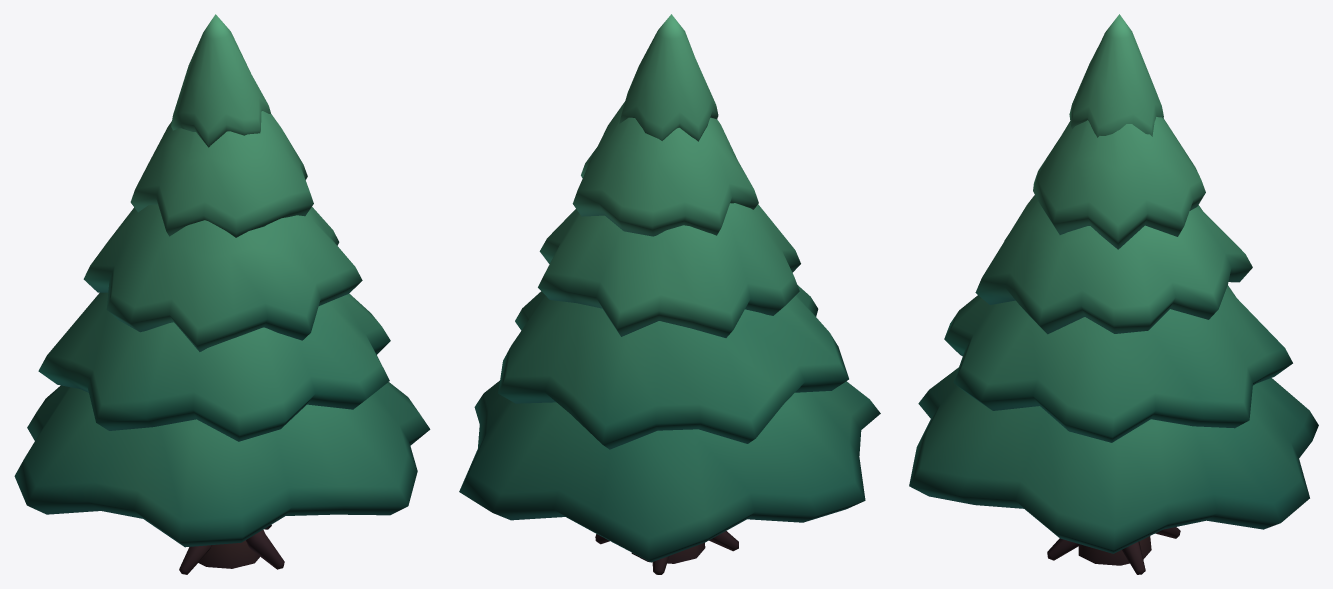
The model's file is pine.glb.
3 views of the same model, side by side, from view 1: azimuth 30°, elevation 25°; view 2: azimuth 150°, elevation 25°; view 3: azimuth 270°, elevation 25° (orthographic).
Parts seen in each view (by area): view 1: pine_body; view 2: pine_body; view 3: pine_body.
Boxes of the visible parts, <box> form: pine_body: <box>14,14,430,574</box>; pine_body: <box>459,14,880,574</box>; pine_body: <box>909,14,1318,574</box>.
Size of the model in its own units: 4.03 by 5.3 by 3.7.
